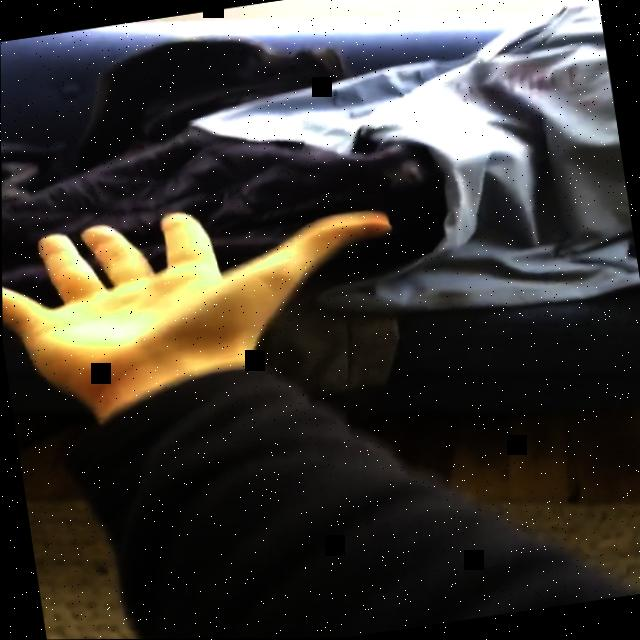Paper: (1, 180, 404, 394)
